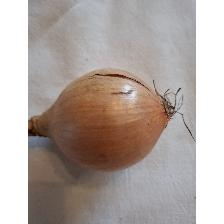Zwiebel: (28, 65, 182, 175)
